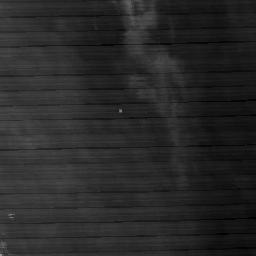Target: (117, 107, 123, 112)
